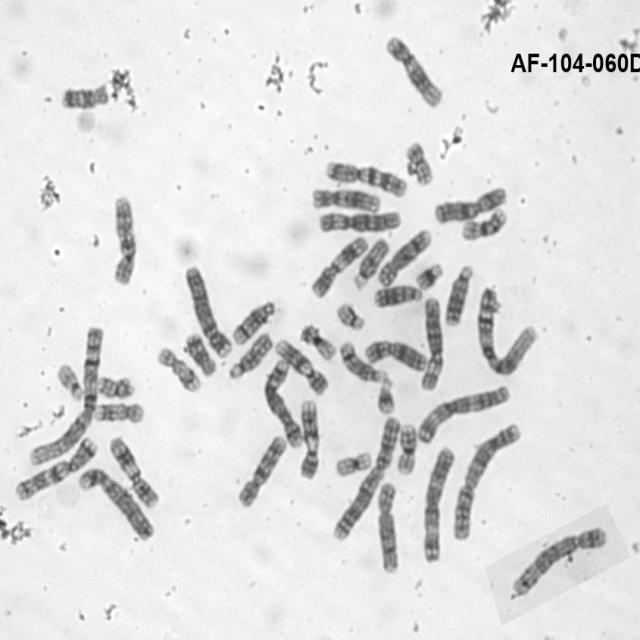A1: (26, 324, 106, 467), (477, 284, 539, 379)
A2: (329, 415, 401, 543), (451, 421, 523, 541)
A3: (416, 385, 511, 445), (421, 445, 457, 564)
B4: (78, 464, 158, 545), (185, 265, 232, 360)
B5: (512, 526, 608, 596), (263, 356, 304, 450)
C10: (234, 435, 287, 511), (107, 197, 141, 286)
C11: (108, 435, 162, 512), (310, 233, 370, 300)
C12: (384, 33, 445, 109), (310, 187, 382, 213)
C6: (419, 295, 445, 390), (316, 209, 404, 234)
C7: (13, 434, 96, 502), (324, 160, 408, 197)
C8: (377, 226, 432, 287), (377, 480, 399, 574)
C9: (274, 337, 330, 396), (297, 400, 323, 480)
D13: (443, 262, 474, 327), (372, 282, 426, 310)
D14: (230, 300, 278, 347), (338, 341, 390, 384)
D15: (227, 332, 274, 382), (352, 236, 390, 290)
E16: (459, 208, 508, 242), (395, 424, 419, 477)
E17: (155, 346, 202, 393), (92, 400, 145, 424)
E18: (182, 332, 218, 378), (61, 81, 110, 111)
F19: (298, 323, 337, 363), (333, 449, 371, 480)
F20: (404, 141, 433, 185), (97, 375, 136, 399)
G21: (415, 261, 444, 294), (376, 378, 397, 416)
G22: (58, 362, 84, 400), (333, 301, 367, 330)
X: (433, 186, 508, 224), (364, 339, 428, 373)
